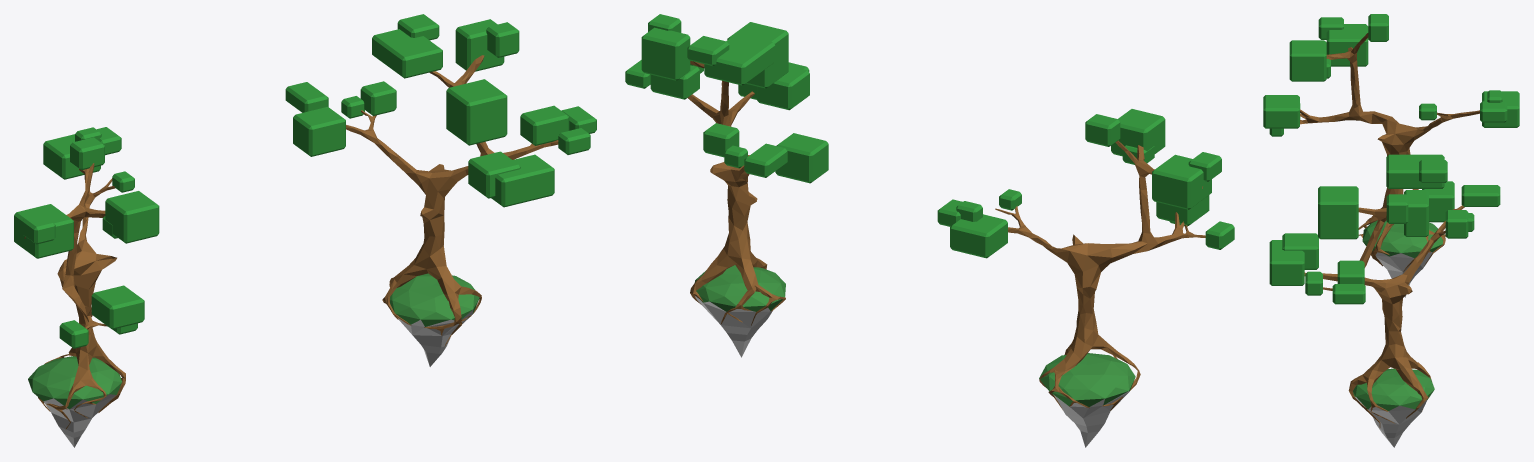
Rendered from 6.2.altar.details.fbx.
3 views of the same model, side by side, from view 1: azimuth 30°, elevation 25°; view 2: azimuth 150°, elevation 25°; view 3: azimuth 270°, elevation 25° (orthographic). The views are drawn at different scales.
Parts seen in each view (by area): view 1: altar_bush_2, altar_bush, Tree, Tree_2, Island_2, Island, Stones_2, Stones; view 2: altar_bush_2, altar_bush, Tree_2, Tree, Island_2, Island, Stones, Stones_2; view 3: altar_bush_2, altar_bush, Tree, Tree_2, Island, Island_2, Stones, Stones_2.
Part boxes in pixels (box(x1,y1,x2,y2)): altar_bush_2: box(285, 14, 596, 207); altar_bush: box(14, 127, 159, 348); Tree: box(346, 55, 558, 346); Tree_2: box(24, 163, 125, 429); Island_2: box(28, 356, 122, 409); Island: box(390, 273, 479, 326); Stones_2: box(43, 394, 116, 447); Stones: box(398, 309, 473, 366); altar_bush_2: box(625, 14, 828, 183); altar_bush: box(937, 109, 1234, 258); Tree_2: box(995, 140, 1205, 410); Tree: box(688, 61, 785, 325); Island_2: box(1039, 353, 1135, 406); Island: box(694, 265, 785, 311); Stones: box(695, 296, 772, 357); Stones_2: box(1053, 391, 1129, 447); altar_bush_2: box(1269, 154, 1500, 304); altar_bush: box(1263, 14, 1519, 136); Tree: box(1304, 189, 1464, 427); Tree_2: box(1300, 33, 1479, 271); Island: box(1353, 368, 1434, 410); Island_2: box(1362, 220, 1443, 258); Stones: box(1355, 397, 1427, 447); Stones_2: box(1375, 251, 1433, 297).
Size of the model in its own units: 59.15 by 32.36 by 26.17.
